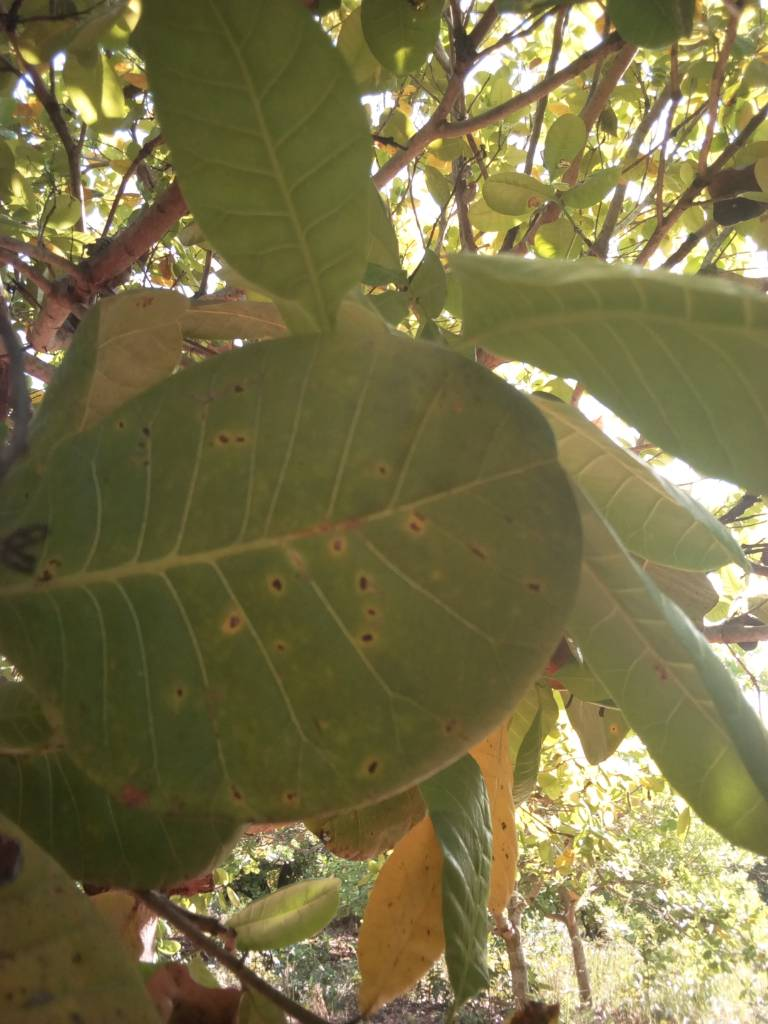Pestalotiose: (36, 355, 565, 808)
